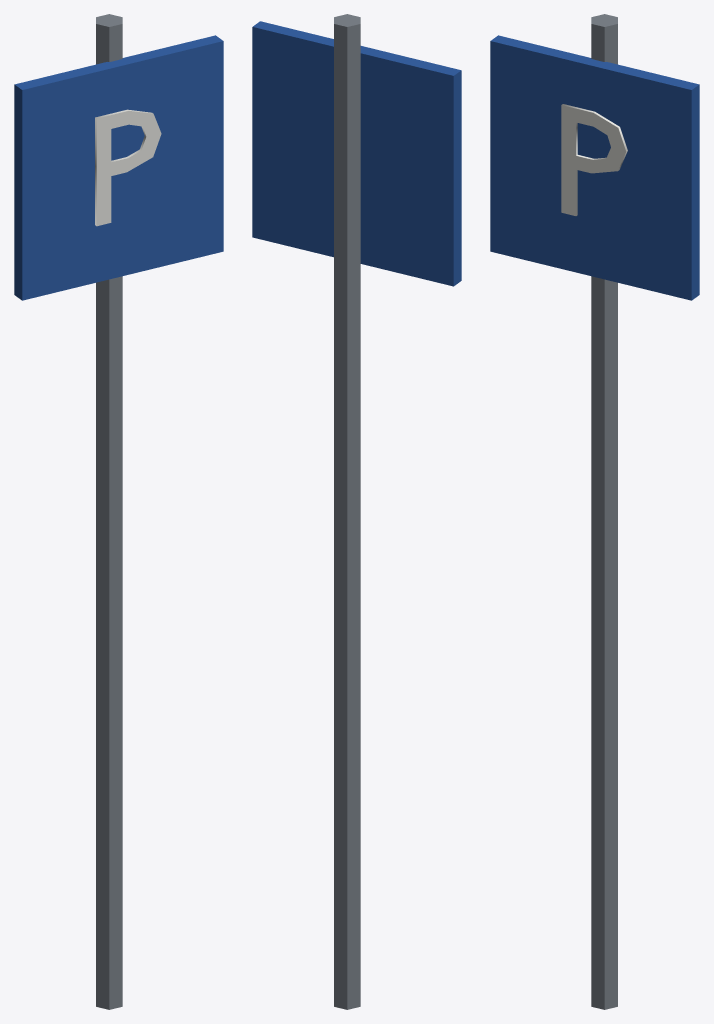
The model's file is sign_park.glb.
The picture shows the model from 3 angles, left to right: view 1: azimuth 30°, elevation 25°; view 2: azimuth 150°, elevation 25°; view 3: azimuth 330°, elevation 25°; orthographic projection.
Visible parts, largest first — view 1: sign_park_Body, sign_park_T; view 2: sign_park_Body; view 3: sign_park_Body, sign_park_T.
Part boxes in pixels (x1,y1,x2,y2): sign_park_Body: (14,14,223,1009); sign_park_T: (95,109,161,226); sign_park_Body: (252,14,461,1009); sign_park_Body: (490,14,699,1009); sign_park_T: (561,104,627,215).
Bounding box in the file's own units: 0.6 × 2.8 × 0.1136.
